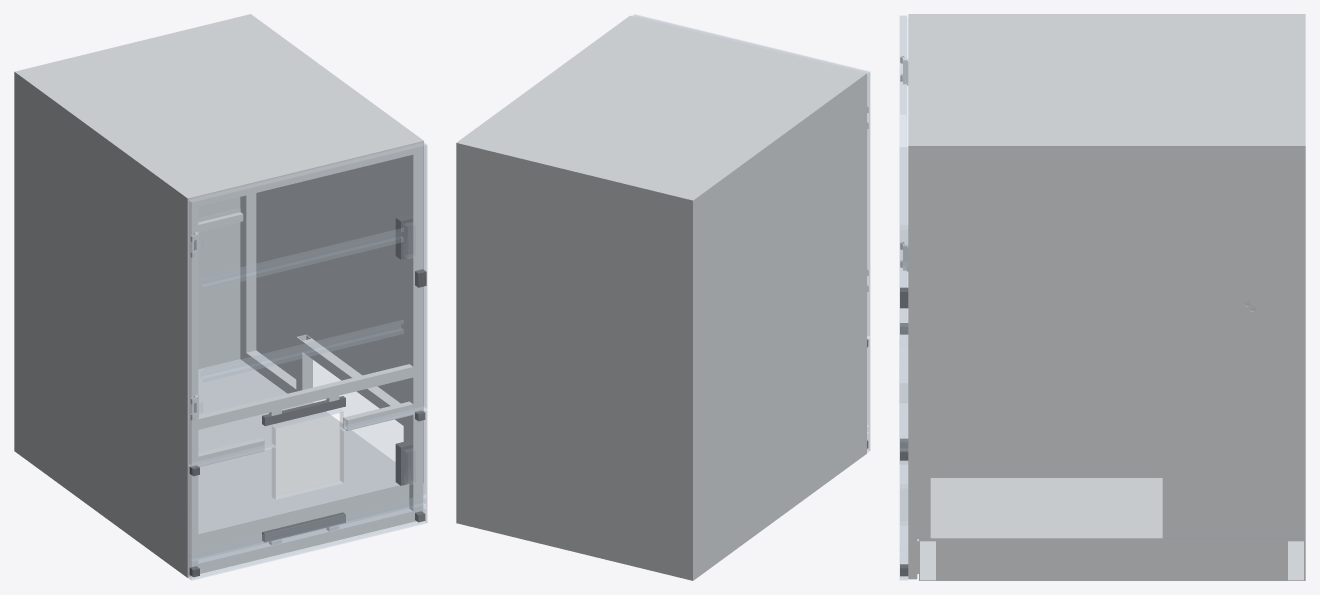
File: modul_A.glb
The picture shows the model from 3 angles, left to right: view 1: azimuth 30°, elevation 25°; view 2: azimuth 150°, elevation 25°; view 3: azimuth 270°, elevation 25°; orthographic projection. The views are drawn at different scales.
Parts seen in each view (by area): view 1: A_GOVDE__sac, A_ONYUZ__on_seffaf__SERVIS_KAPAGI, A_MODULER__paslanmaz, A_ONYUZ__on_seffaf__ALT_PANEL, A_GOVDE__paslanmaz, KAIDE_A__sac, KAIDE_A__paslanmaz, A_GOVDE__plastik, A_ONYUZ__plastik; view 2: A_GOVDE__sac, A_ONYUZ__on_seffaf__SERVIS_KAPAGI; view 3: A_MODULER__paslanmaz, A_GOVDE__sac, KAIDE_A__paslanmaz, KAIDE_A__sac, A_ONYUZ__on_seffaf__SERVIS_KAPAGI, A_ONYUZ__on_seffaf__ALT_PANEL, A_ONYUZ__plastik.
Boxes of the visible parts, x1,y1,x2,y2 form: A_GOVDE__sac: [14, 14, 423, 577]; A_ONYUZ__on_seffaf__SERVIS_KAPAGI: [188, 142, 427, 466]; A_MODULER__paslanmaz: [246, 141, 423, 482]; A_ONYUZ__on_seffaf__ALT_PANEL: [188, 409, 427, 580]; A_GOVDE__paslanmaz: [188, 141, 423, 576]; KAIDE_A__sac: [198, 359, 399, 534]; KAIDE_A__paslanmaz: [198, 484, 409, 559]; A_GOVDE__plastik: [262, 214, 412, 542]; A_ONYUZ__plastik: [189, 269, 426, 577]; A_GOVDE__sac: [456, 15, 866, 580]; A_ONYUZ__on_seffaf__SERVIS_KAPAGI: [632, 14, 870, 338]; A_MODULER__paslanmaz: [908, 146, 1304, 538]; A_GOVDE__sac: [908, 14, 1305, 580]; KAIDE_A__paslanmaz: [919, 539, 1304, 580]; KAIDE_A__sac: [917, 478, 1304, 538]; A_ONYUZ__on_seffaf__SERVIS_KAPAGI: [899, 15, 908, 449]; A_ONYUZ__on_seffaf__ALT_PANEL: [899, 450, 908, 580]; A_ONYUZ__plastik: [900, 287, 908, 576].
Size of the model in its own units: 0.7 by 1.07 by 0.909.
